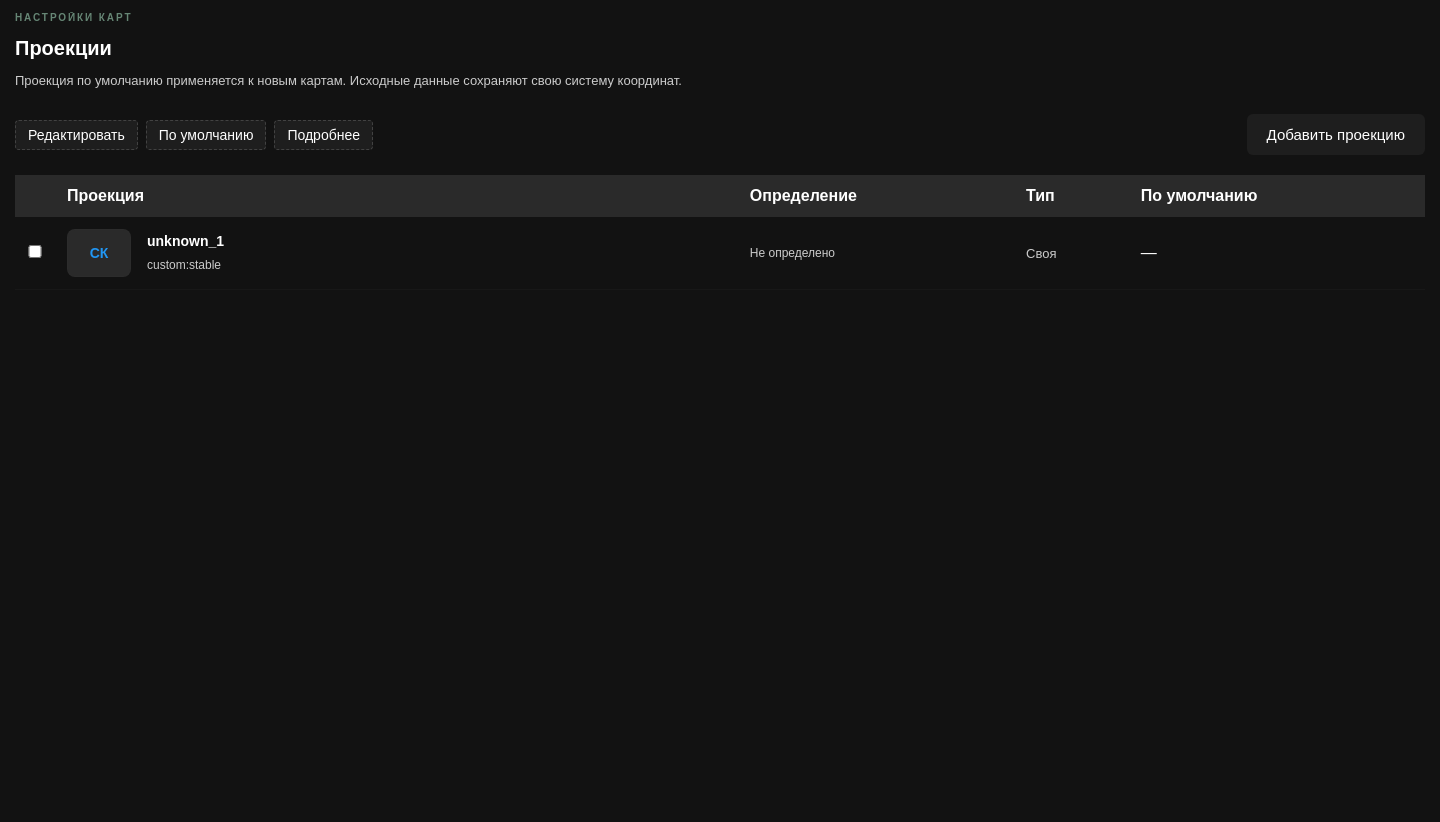
Test: renaming keeps the catalog identifier and does not require a CRS definition
Click the checkbox named "Выбрать unknown_1" at (35, 252), box [27,245,43,258]
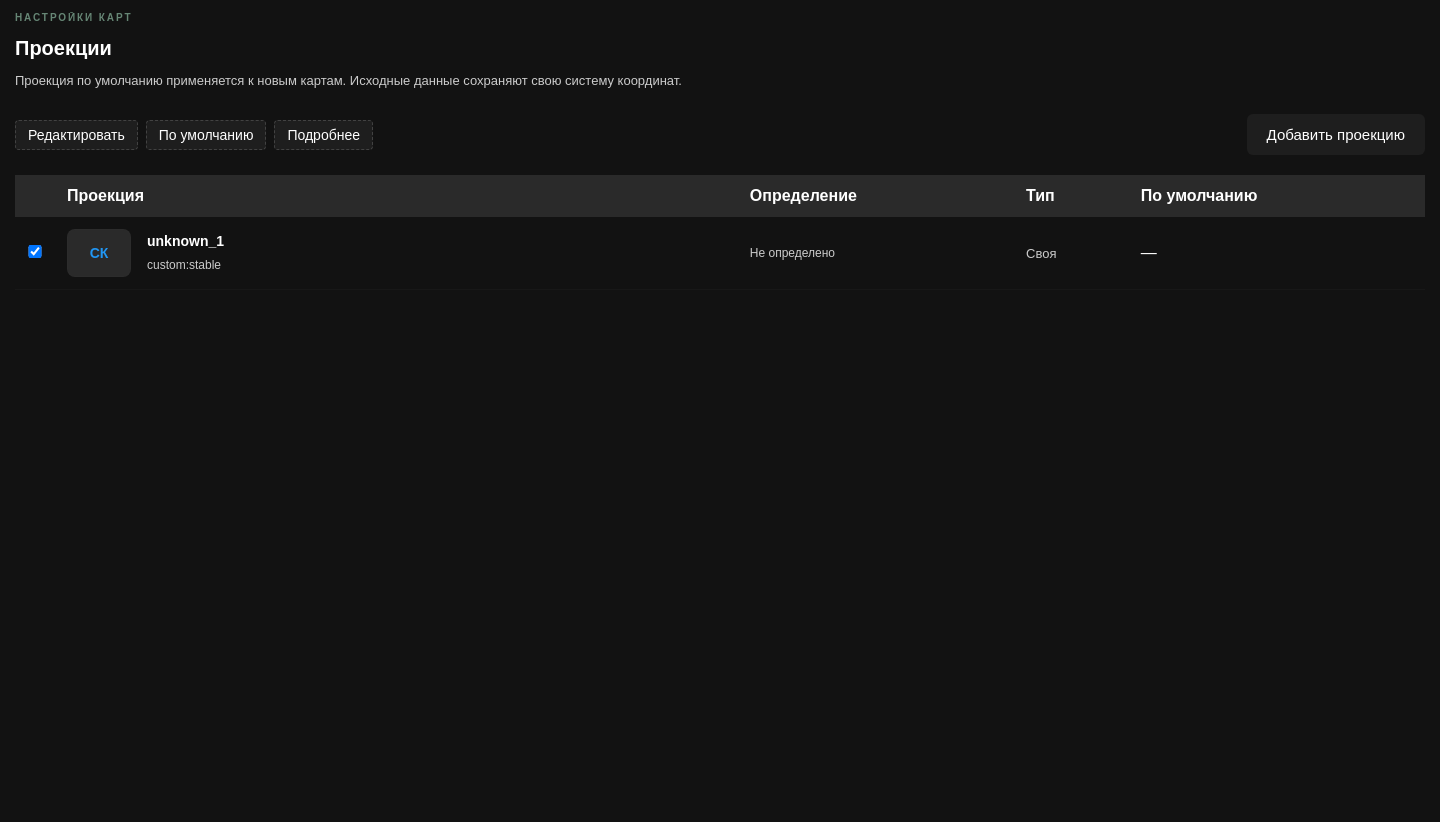
Click the button "Редактировать" at (76, 135), box [15,120,138,150]
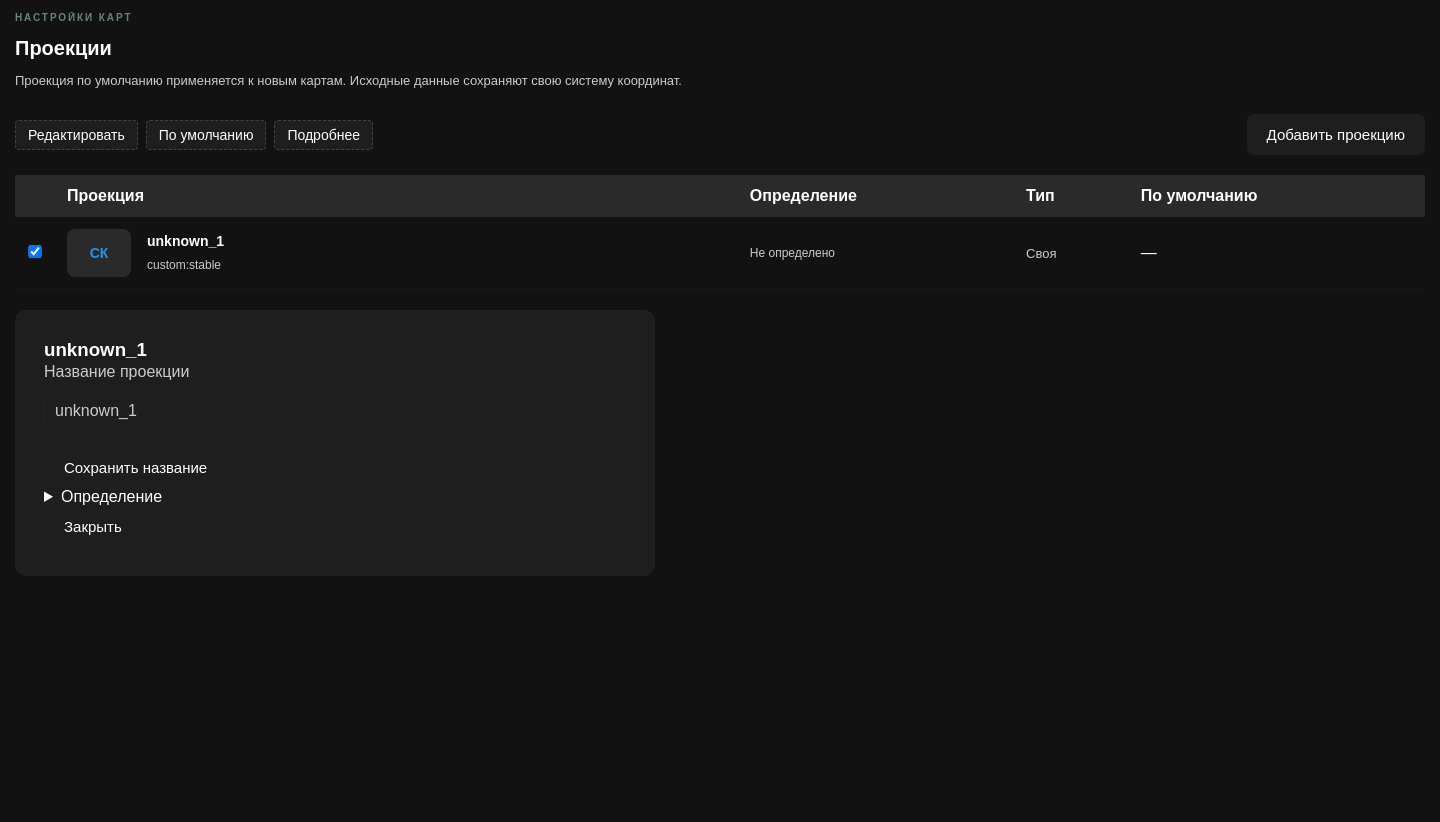
Replace the text in the field named "Название проекции unknown_1" with "МСК проекта" at (335, 412), box [44,392,626,432]
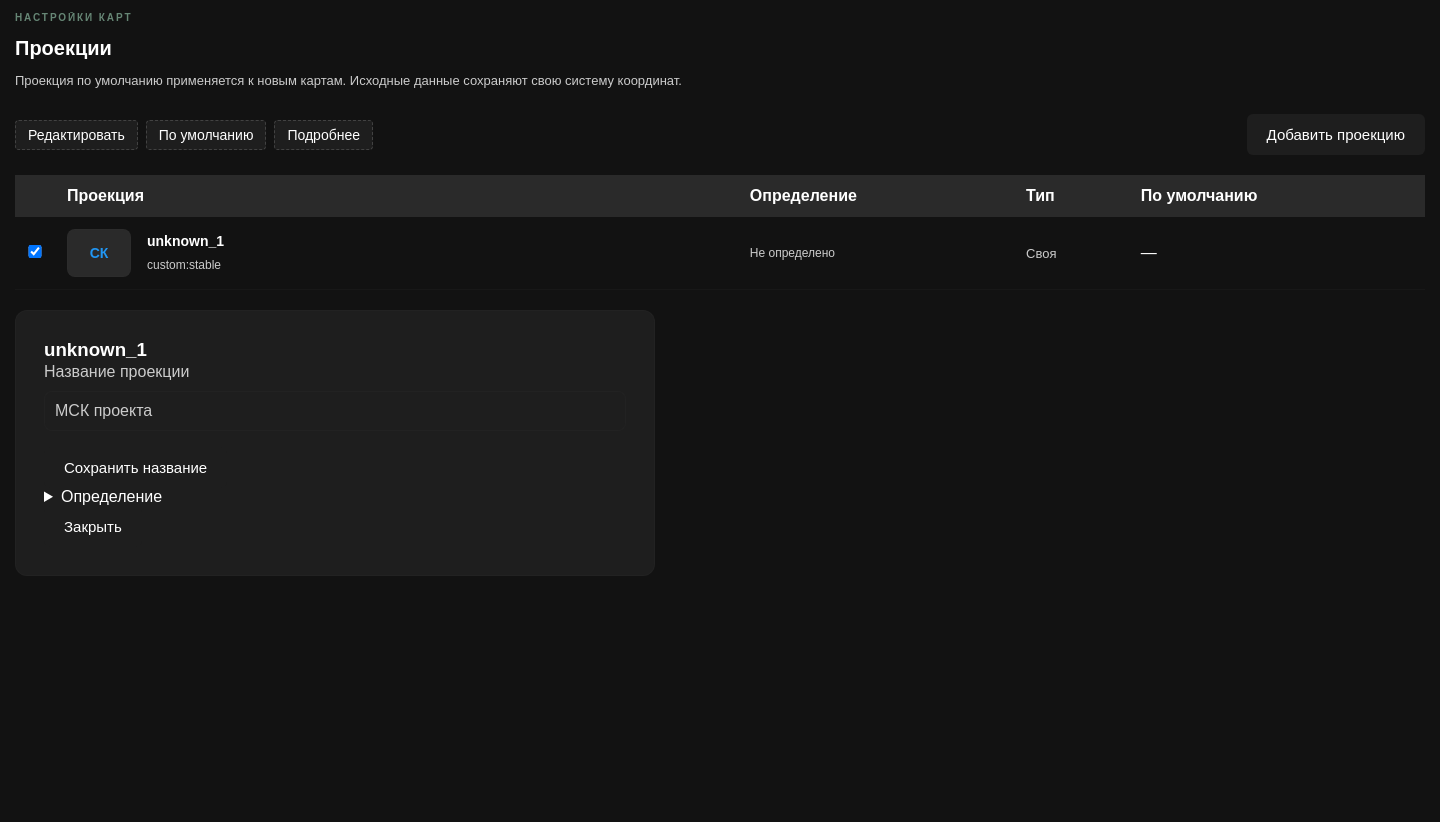
Click the button "Сохранить название" at (136, 468), box [44,448,227,488]
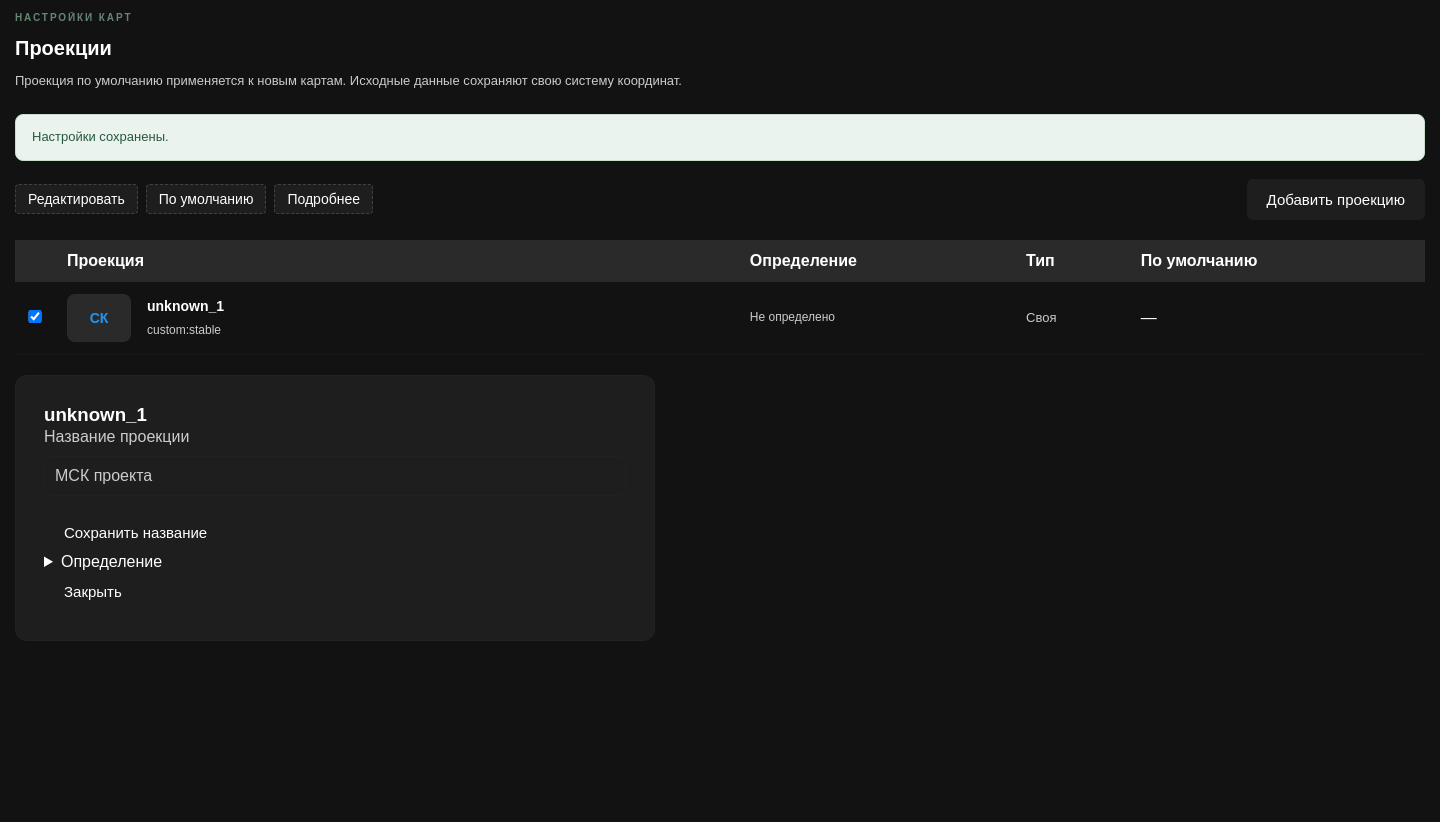
Now the message reads "Настройки сохранены.", box [32,129,169,144]
